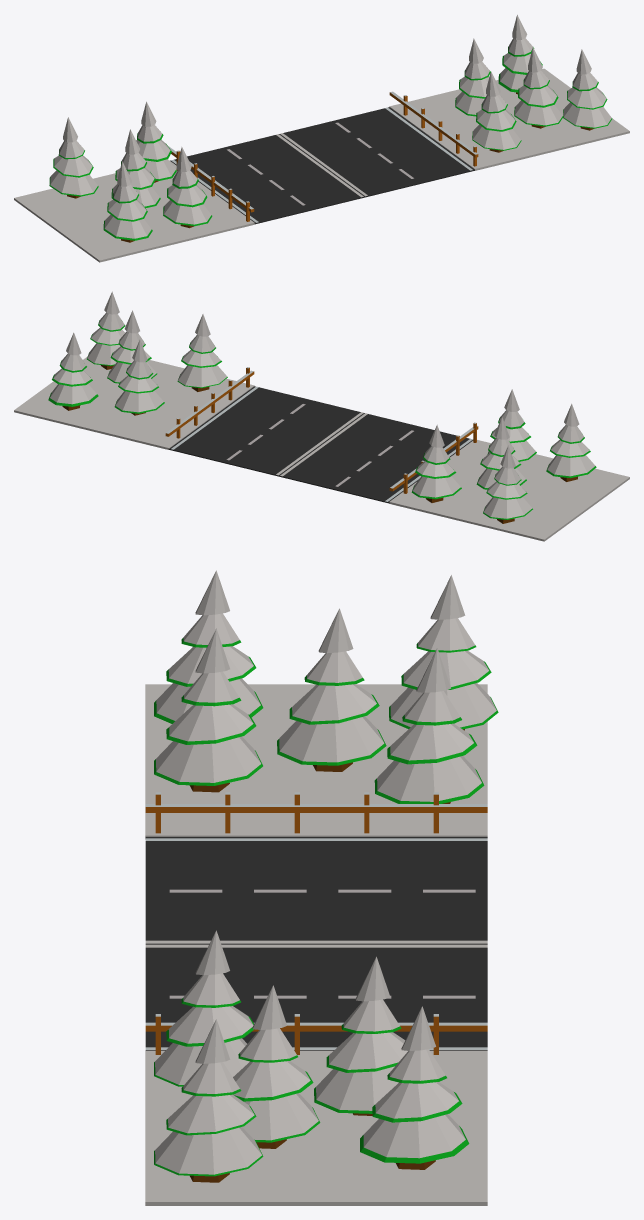
The model's file is Winter_Map.fbx.
The picture shows the model from 3 angles, top to bottom: view 1: azimuth 30°, elevation 25°; view 2: azimuth 150°, elevation 25°; view 3: azimuth 270°, elevation 25°; orthographic projection. The views are drawn at different scales.
Parts seen in each view (by area): view 1: Plane.013; view 2: Plane.013; view 3: Plane.013.
Part boxes in pixels (<box>): Plane.013: <box>14,15,629,262</box>; Plane.013: <box>14,291,629,541</box>; Plane.013: <box>145,570,498,1205</box>.
Size of the model in its own units: 71.64 by 20.65 by 10.39.
